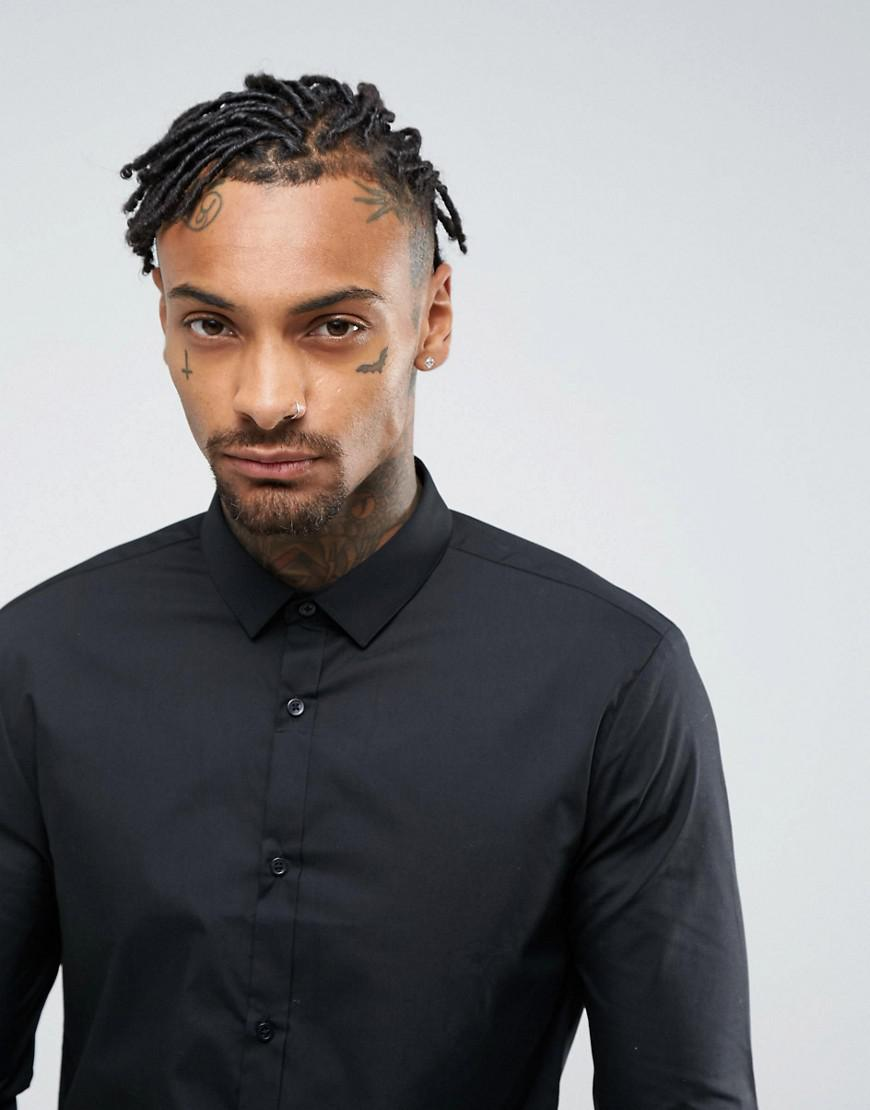teeshirt: (1, 430, 778, 1108)
